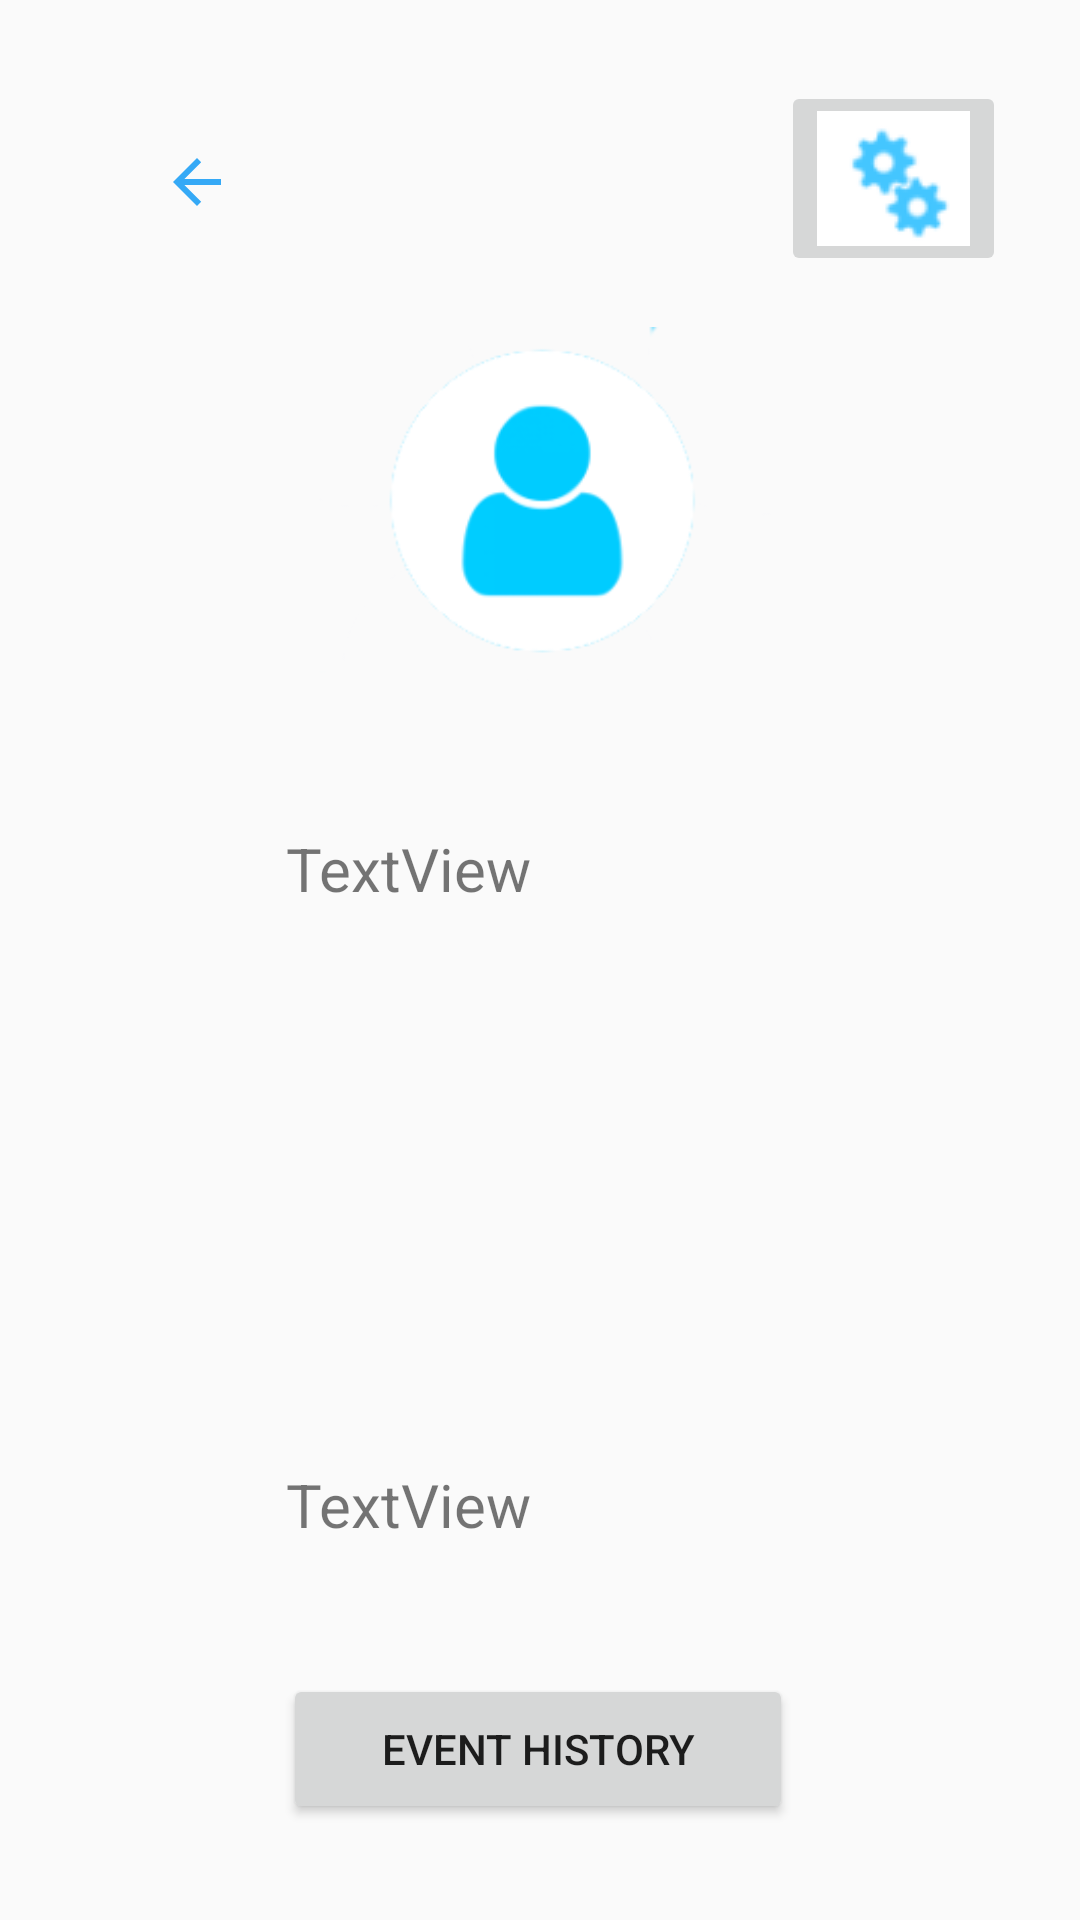

Where to tap for icons on this 1080px x 1920px app screen, as (x,y):
back: (197,182)
profile: (541,489)
settings: (893,178)
